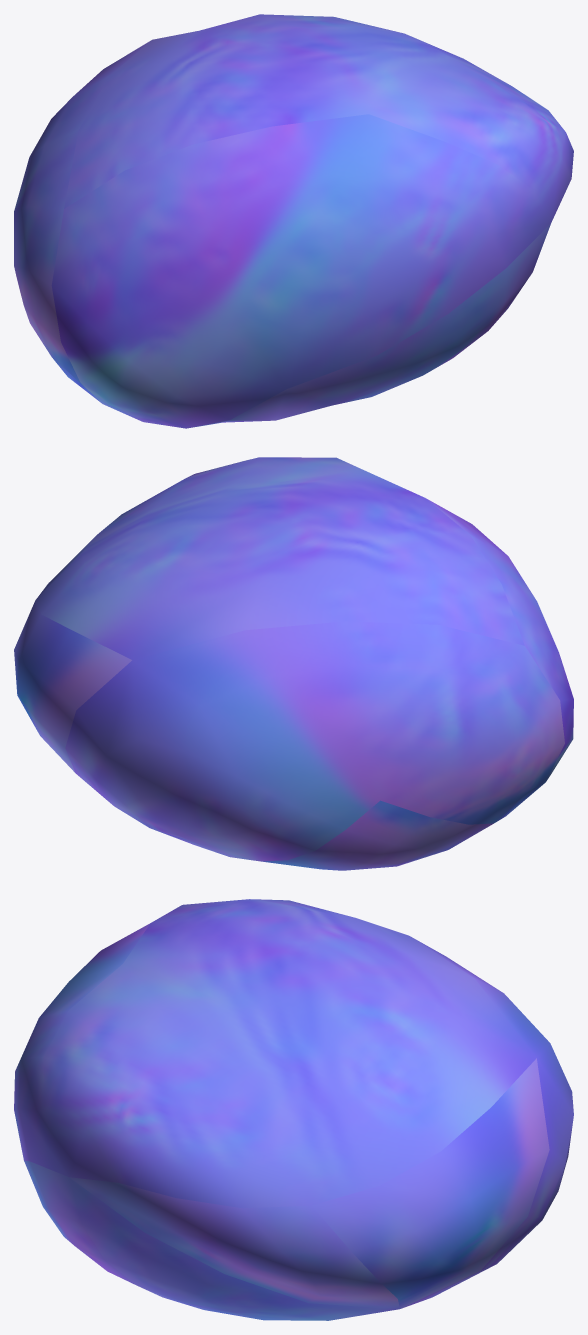
File: lowpolyrock1.fbx
The picture shows the model from 3 angles, top to bottom: view 1: azimuth 30°, elevation 25°; view 2: azimuth 150°, elevation 25°; view 3: azimuth 270°, elevation 25°; orthographic projection. The views are drawn at different scales.
Visible parts, largest first — view 1: Rock2.001; view 2: Rock2.001; view 3: Rock2.001.
Part boxes in pixels (box(x1,y1,x2,y2)): Rock2.001: box(14, 14, 573, 428); Rock2.001: box(14, 457, 573, 870); Rock2.001: box(14, 899, 573, 1320).
Bounding box in the file's own units: 340 × 211 × 307.
